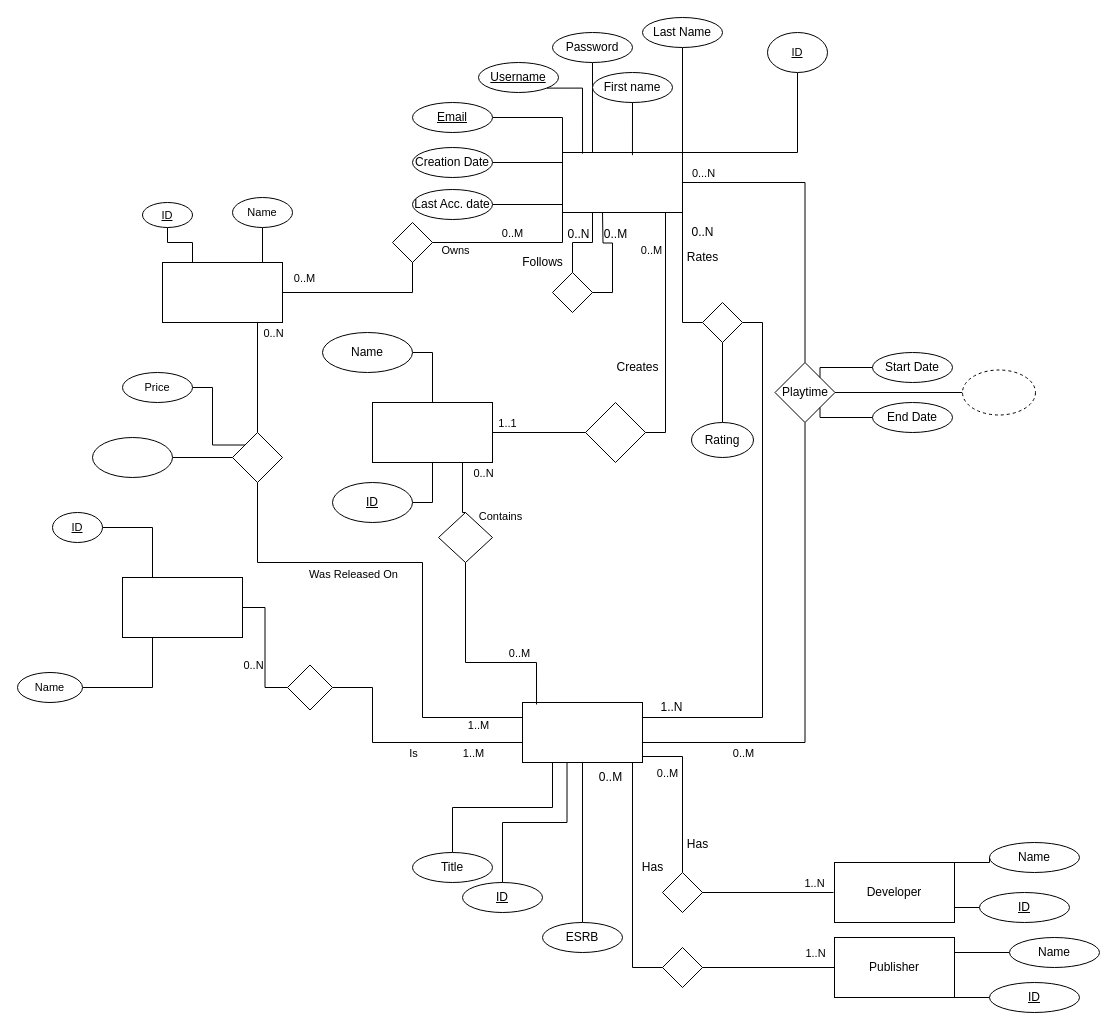
Some shapes in this 1117 by 1030 pixel diagram are drawn without their labels. The shapes that lost their labels are listed below. From the top down, each one's box as (x1, y1, x2, y2) in pixels, then its label:
(562, 152, 682, 212): User
(162, 262, 282, 322): Platform
(962, 369, 1036, 415): Duration
(372, 402, 492, 462): Collection
(92, 436, 172, 478): Release Date
(122, 576, 242, 638): Genre
(522, 702, 642, 762): Video Game
